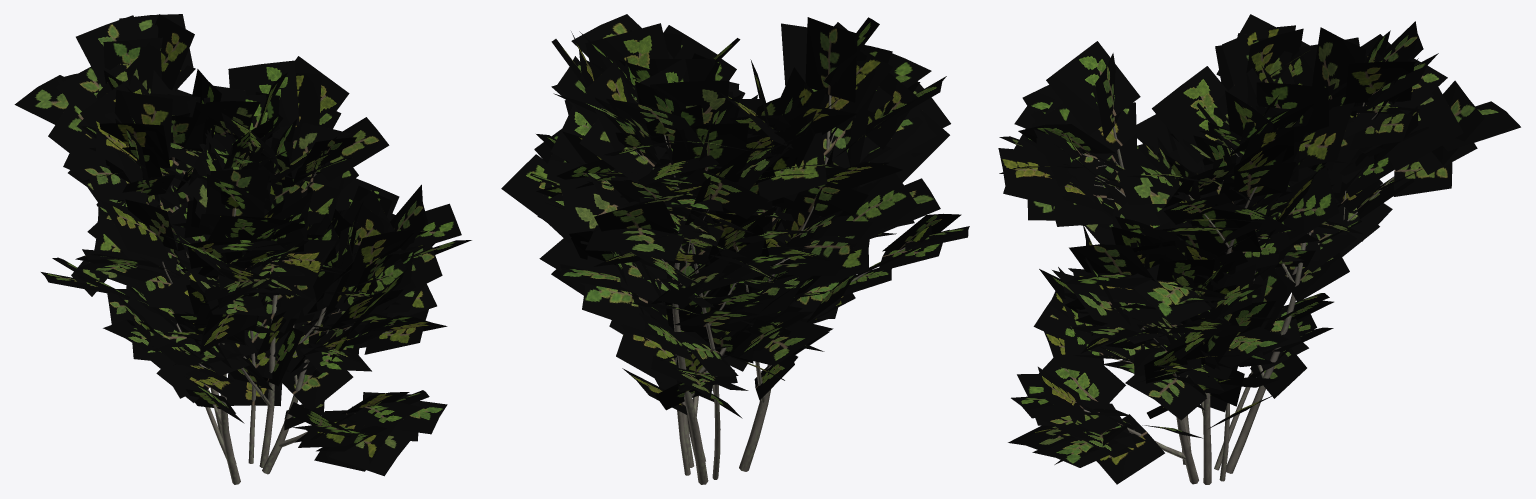
Rendered from hloh_1.glb.
3 renders of one model, left to right at view 1: azimuth 30°, elevation 25°; view 2: azimuth 150°, elevation 25°; view 3: azimuth 270°, elevation 25°, orthographic. The views are drawn at different scales.
Parts seen in each view (by area): view 1: hloh_1; view 2: hloh_1; view 3: hloh_1.
Boxes of the visible parts, x1,y1,x2,y2 form: hloh_1: (14,14,471,484); hloh_1: (501,14,969,484); hloh_1: (998,14,1520,484).
Size of the model in its own units: 3 by 3.13 by 3.54.
Materials: 2 (2 with a texture image).
